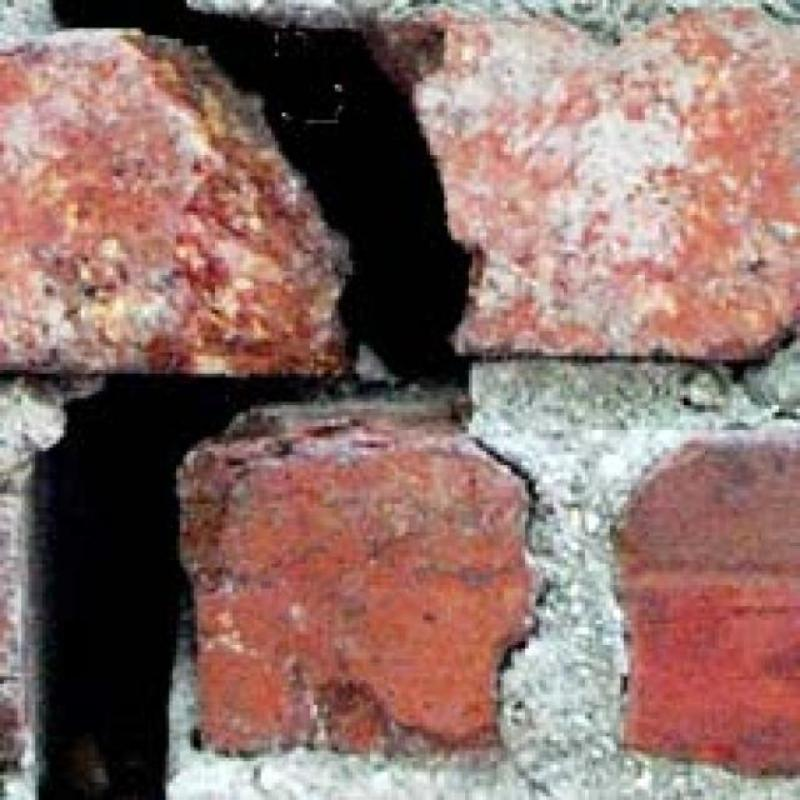pothole: (55, 0, 469, 383), (36, 375, 344, 800)
